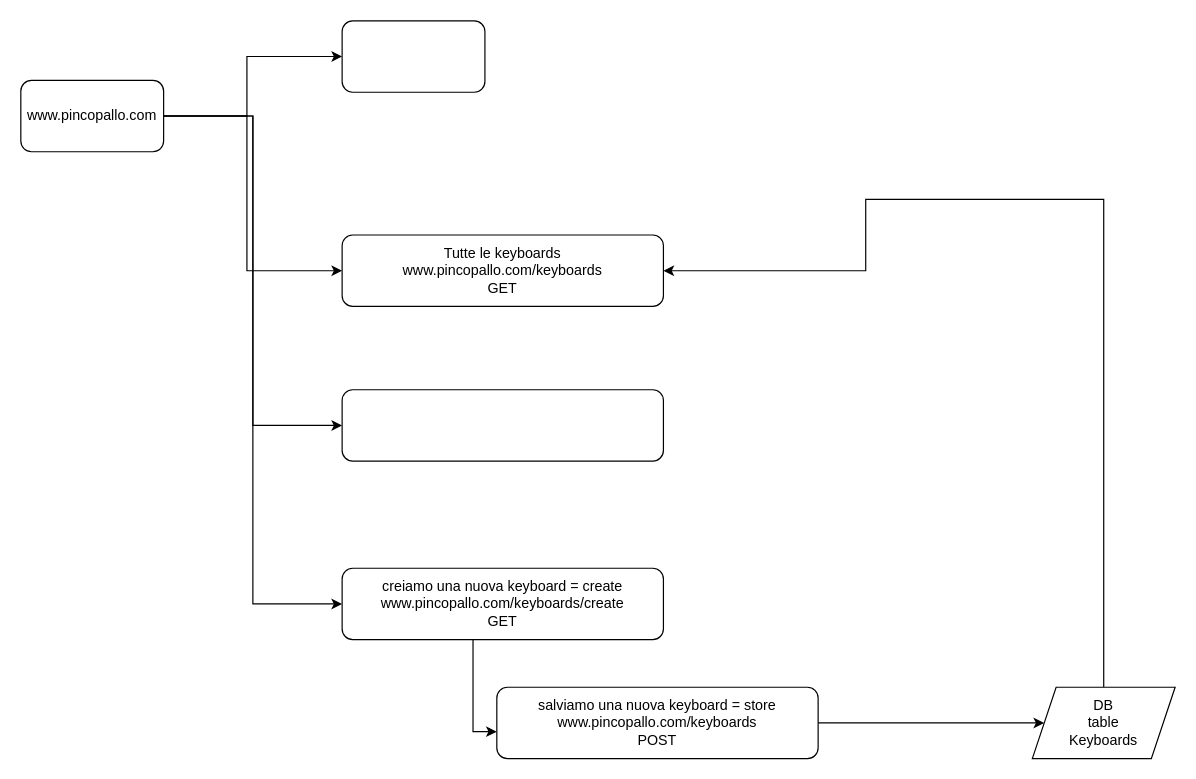
Some shapes in this 1196 by 779 pixel diagram are drawn without their labels. The box of each missing label's shape, as (x1, y1, x2, y2) in pixels:
index /: (341, 20, 485, 92)
una sola keyboard www.pincopallo.com/keyboards/{keyboard} GET: (341, 389, 663, 461)
